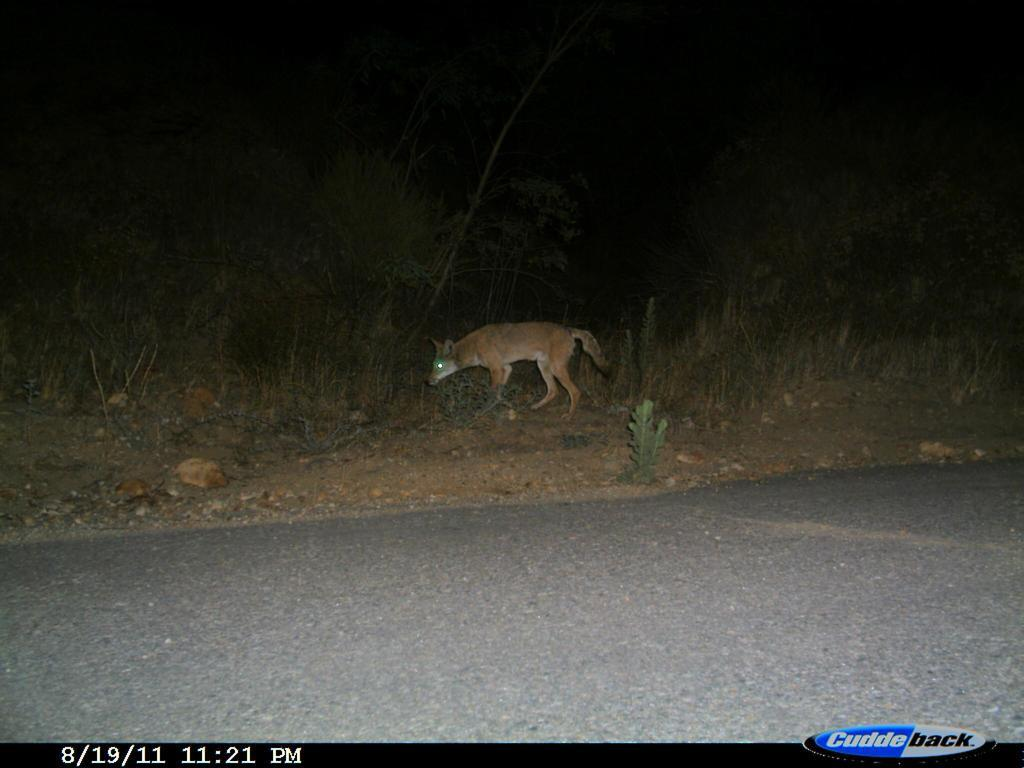coyote: (414, 317, 619, 424)
